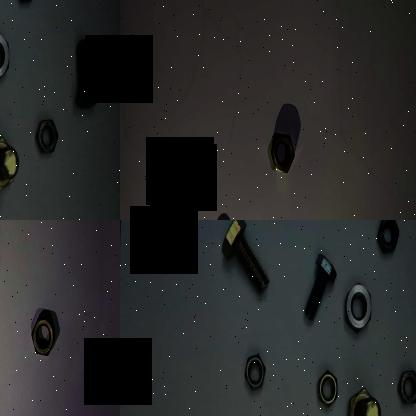Bolts: (216, 220, 269, 298), (298, 246, 336, 326), (67, 34, 103, 114), (342, 374, 383, 416), (0, 128, 20, 197)
NUTS: (338, 280, 376, 332), (239, 348, 267, 400), (32, 111, 60, 162), (27, 312, 57, 358), (268, 129, 296, 176), (308, 366, 340, 406), (393, 362, 416, 408), (371, 220, 399, 257), (0, 19, 13, 87)
